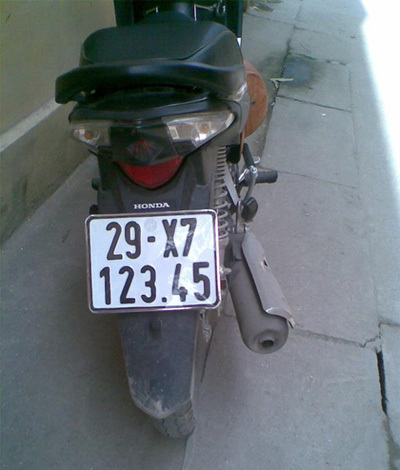bien_so: (87, 210, 220, 312)
